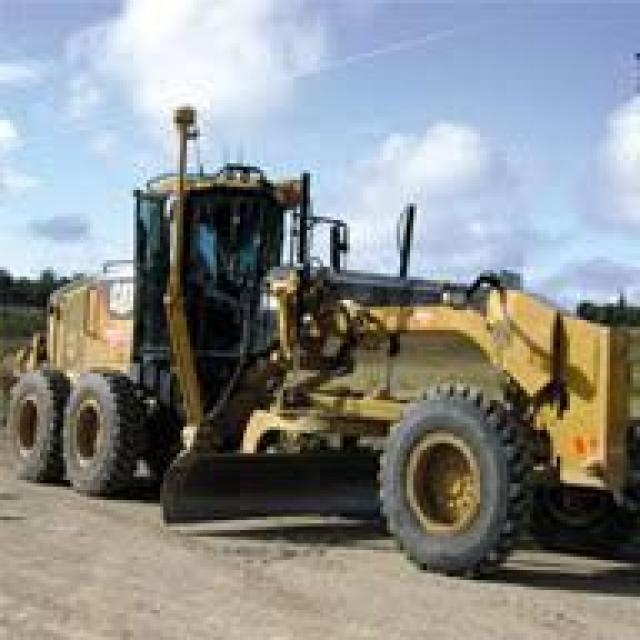Grader: (10, 136, 637, 576)
